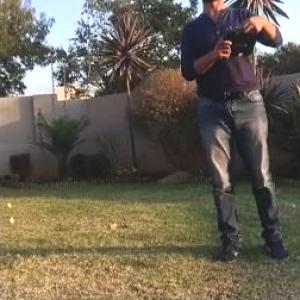follow: (176, 0, 295, 274)
